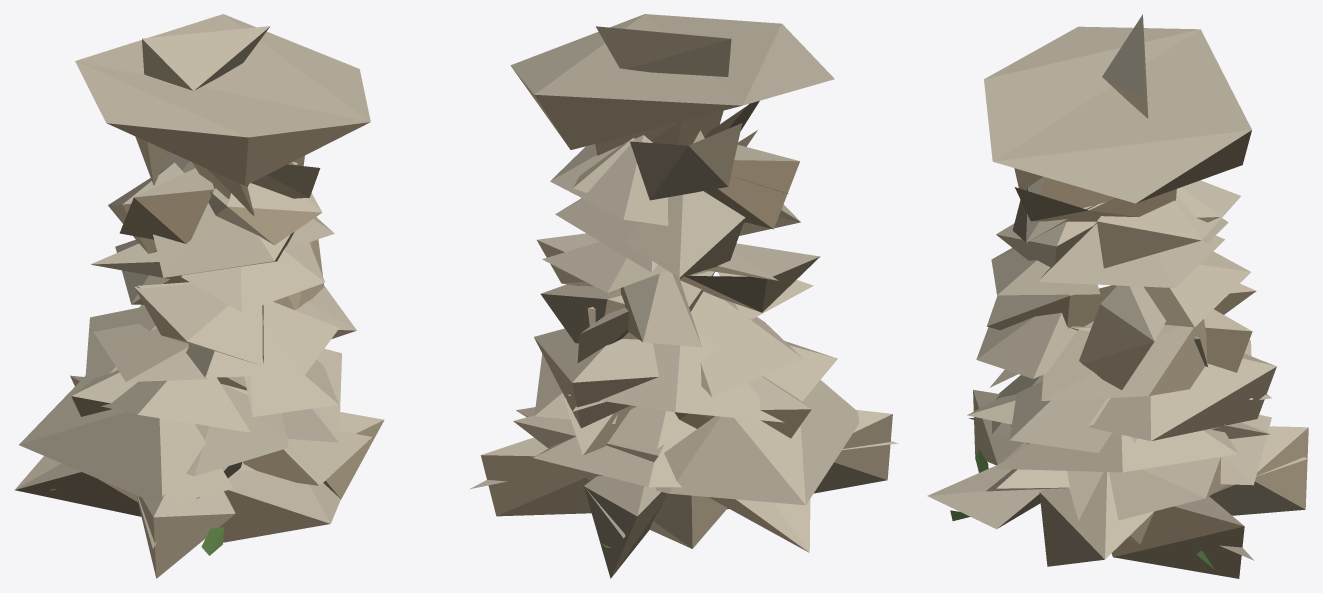
The model's file is pf_cairn.glb.
3 renders of one model, left to right at view 1: azimuth 30°, elevation 25°; view 2: azimuth 150°, elevation 25°; view 3: azimuth 270°, elevation 25°, orthographic. The views are drawn at different scales.
Visible parts, largest first — view 1: body, body__far; view 2: body, body__far; view 3: body, body__far.
Boxes of the visible parts, x1,y1,x2,y2 form: body: (14, 14, 384, 578); body__far: (126, 161, 297, 548); body: (480, 14, 892, 578); body__far: (469, 138, 898, 538); body: (927, 14, 1308, 578); body__far: (969, 177, 1308, 560).
Bounding box in the file's own units: 0.5358 × 0.6839 × 0.4953.
